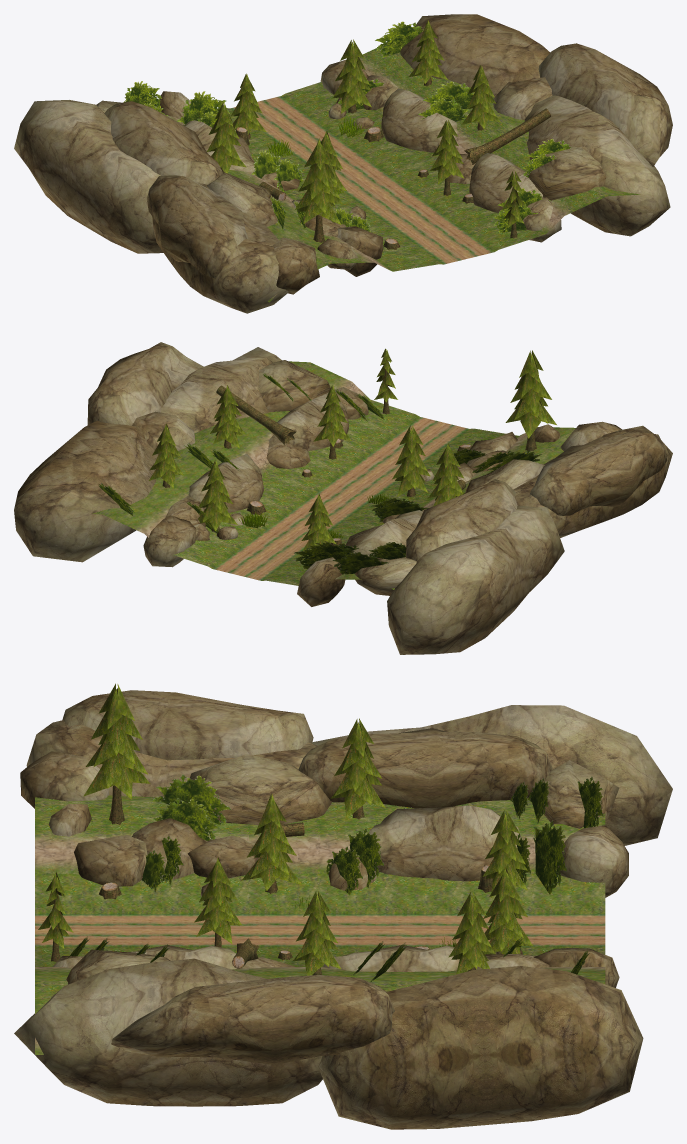
The model's file is BikeRoad05.FBX.
The picture shows the model from 3 angles, top to bottom: view 1: azimuth 30°, elevation 25°; view 2: azimuth 150°, elevation 25°; view 3: azimuth 270°, elevation 25°; orthographic projection. The views are drawn at different scales.
Visible parts, largest first — view 1: Rock (×20), Ground, Tree (×9), GrassPlane (×8), Log; view 2: Rock (×21), Ground, Tree (×9), GrassPlane (×3), Log; view 3: Rock (×21), Ground, Tree (×9), GrassPlane (×7).
Part boxes in pixels (x1,y1,x2,y2): Rock (×20): (14, 14, 672, 313); Ground: (155, 43, 667, 302); Tree (×9): (207, 20, 525, 242); GrassPlane (×8): (123, 21, 538, 232); Log: (464, 108, 550, 164); Rock (×21): (14, 342, 672, 654); Ground: (92, 361, 575, 589); Tree (×9): (149, 348, 556, 550); GrassPlane (×3): (294, 500, 428, 574); Log: (216, 385, 296, 444); Rock (×21): (14, 690, 672, 1129); Ground: (35, 795, 605, 1054); Tree (×9): (38, 683, 532, 975); GrassPlane (×7): (142, 774, 603, 894).
Size of the model in its own units: 5535 by 1758 by 4623.
